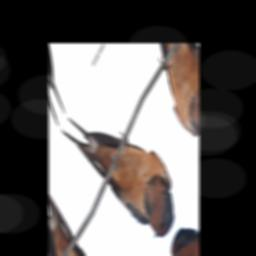Swallow: (60, 62, 188, 256)
